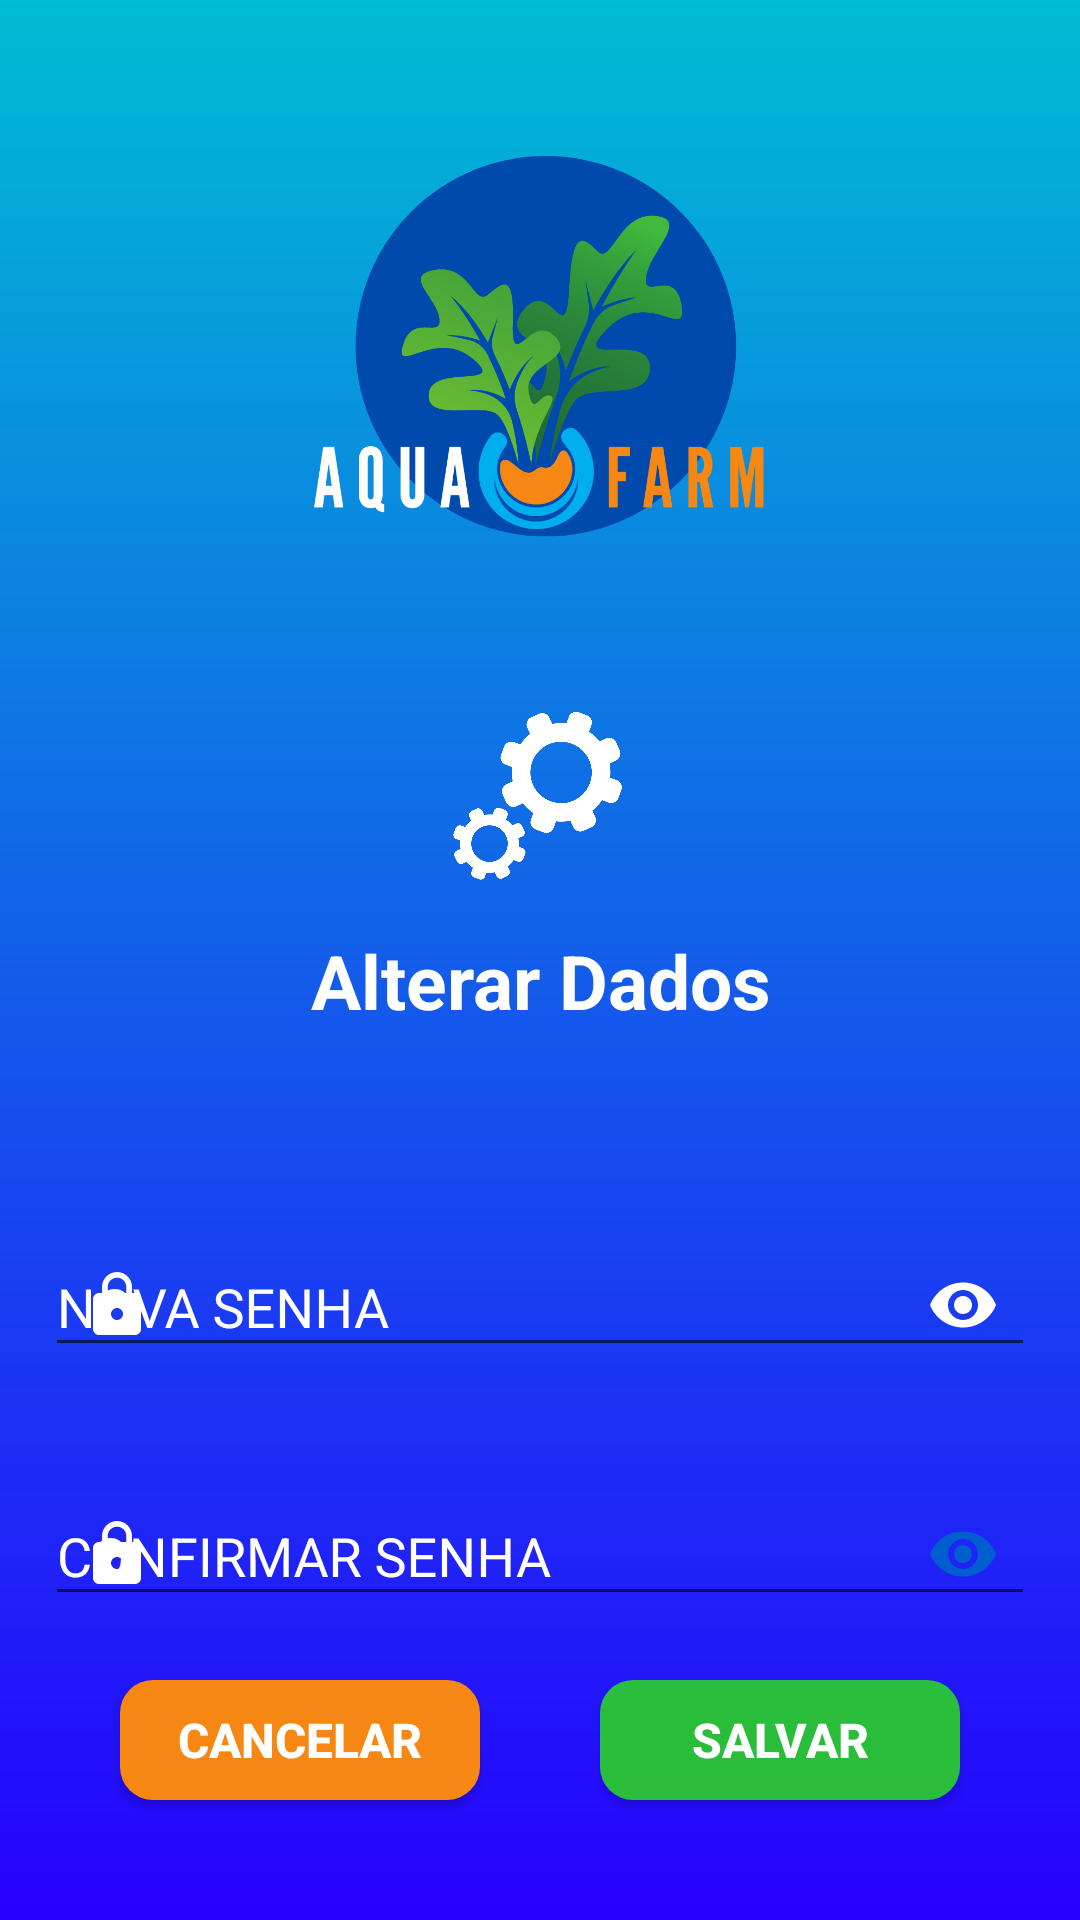

Icon bounding boxes for this 1080x1920 phone screenshot, format BBox(x1, y1, x2, y2):
configuracao: BBox(448, 690, 628, 880)
